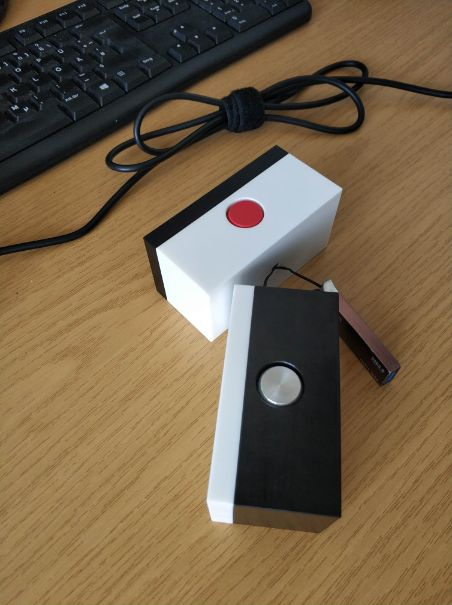black+white+red: (140, 144, 346, 347)
white+black+silver: (203, 282, 345, 540)
